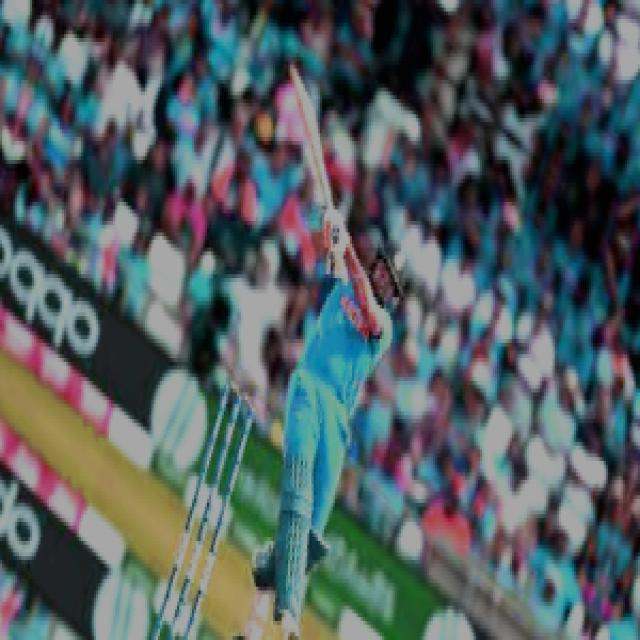toe: (290, 63, 305, 102)
